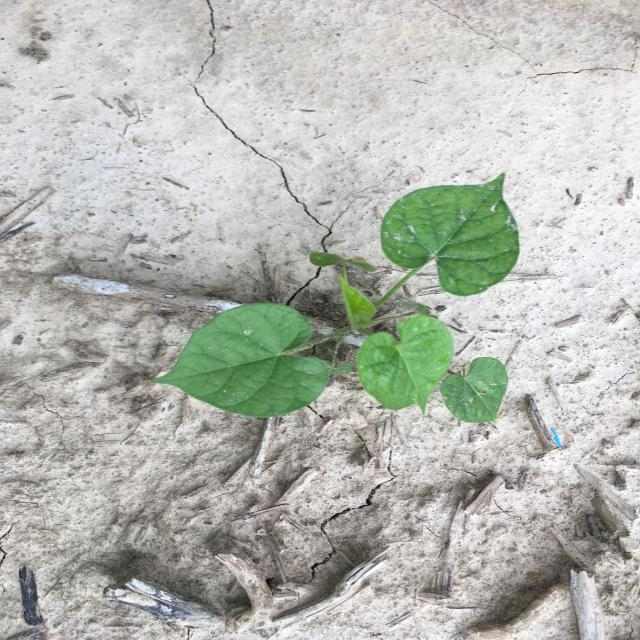MorningGlory: (150, 172, 520, 422)
